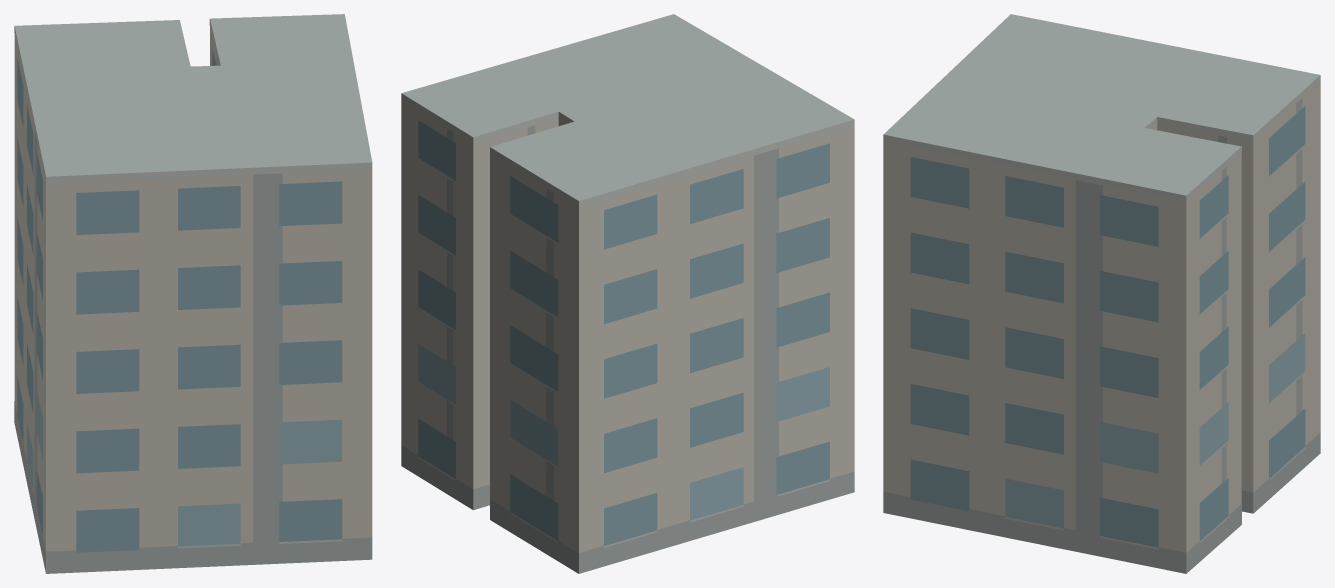
Rendered from survey-upis-32535333.glb.
The picture shows the model from 3 angles, left to right: view 1: azimuth 30°, elevation 25°; view 2: azimuth 150°, elevation 25°; view 3: azimuth 270°, elevation 25°; orthographic projection. The views are drawn at different scales.
Visible parts, largest first — view 1: survey-upis-32535333.tmp; view 2: survey-upis-32535333.tmp; view 3: survey-upis-32535333.tmp.
Boxes of the visible parts, box(x1,y1,x2,y2) form: survey-upis-32535333.tmp: box(14, 14, 372, 573); survey-upis-32535333.tmp: box(401, 14, 854, 573); survey-upis-32535333.tmp: box(883, 14, 1320, 573).
Size of the model in its own units: 14.43 by 14 by 14.68.
